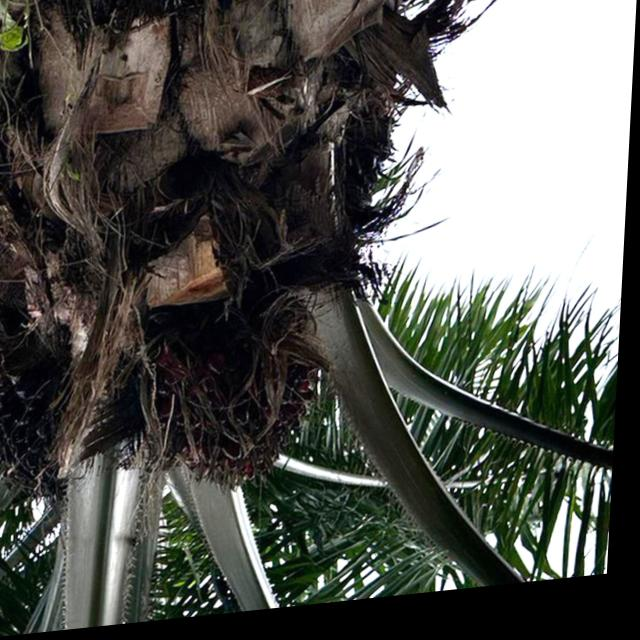ripe: (126, 291, 347, 522)
